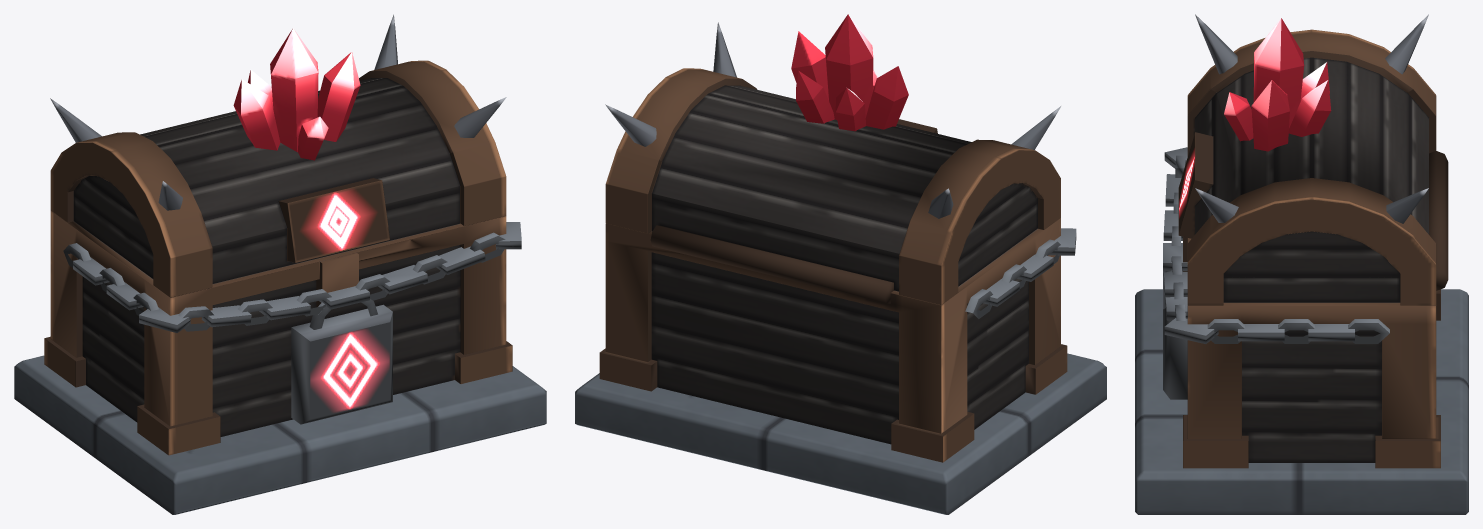
The model's file is chest_ambush-Dwah-agu.glb.
3 renders of one model, left to right at view 1: azimuth 30°, elevation 25°; view 2: azimuth 150°, elevation 25°; view 3: azimuth 270°, elevation 25°, orthographic. The views are drawn at different scales.
Parts seen in each view (by area): view 1: lid_mesh, body, pedestal_mesh, chain, crystal_lid; view 2: body, lid_mesh, pedestal_mesh, crystal_lid, chain; view 3: lid_mesh, body, pedestal_mesh, chain, crystal_lid.
Boxes of the visible parts, x1=… form: lid_mesh: x1=50, y1=14, x2=506, y2=297; body: x1=44, y1=210, x2=512, y2=455; pedestal_mesh: x1=14, y1=355, x2=546, y2=514; chain: x1=63, y1=222, x2=521, y2=424; crystal_lid: x1=233, y1=28, x2=360, y2=160; body: x1=599, y1=218, x2=1067, y2=462; lid_mesh: x1=605, y1=22, x2=1060, y2=304; pedestal_mesh: x1=575, y1=353, x2=1106, y2=514; crystal_lid: x1=791, y1=14, x2=908, y2=131; chain: x1=965, y1=228, x2=1076, y2=318; lid_mesh: x1=1178, y1=14, x2=1436, y2=305; body: x1=1183, y1=151, x2=1448, y2=468; pedestal_mesh: x1=1135, y1=289, x2=1468, y2=514; chain: x1=1163, y1=147, x2=1389, y2=399; crystal_lid: x1=1224, y1=18, x2=1331, y2=151.
Size of the model in its own units: 1.37 by 1.34 by 1.
Materials: 2 (2 with a texture image).
